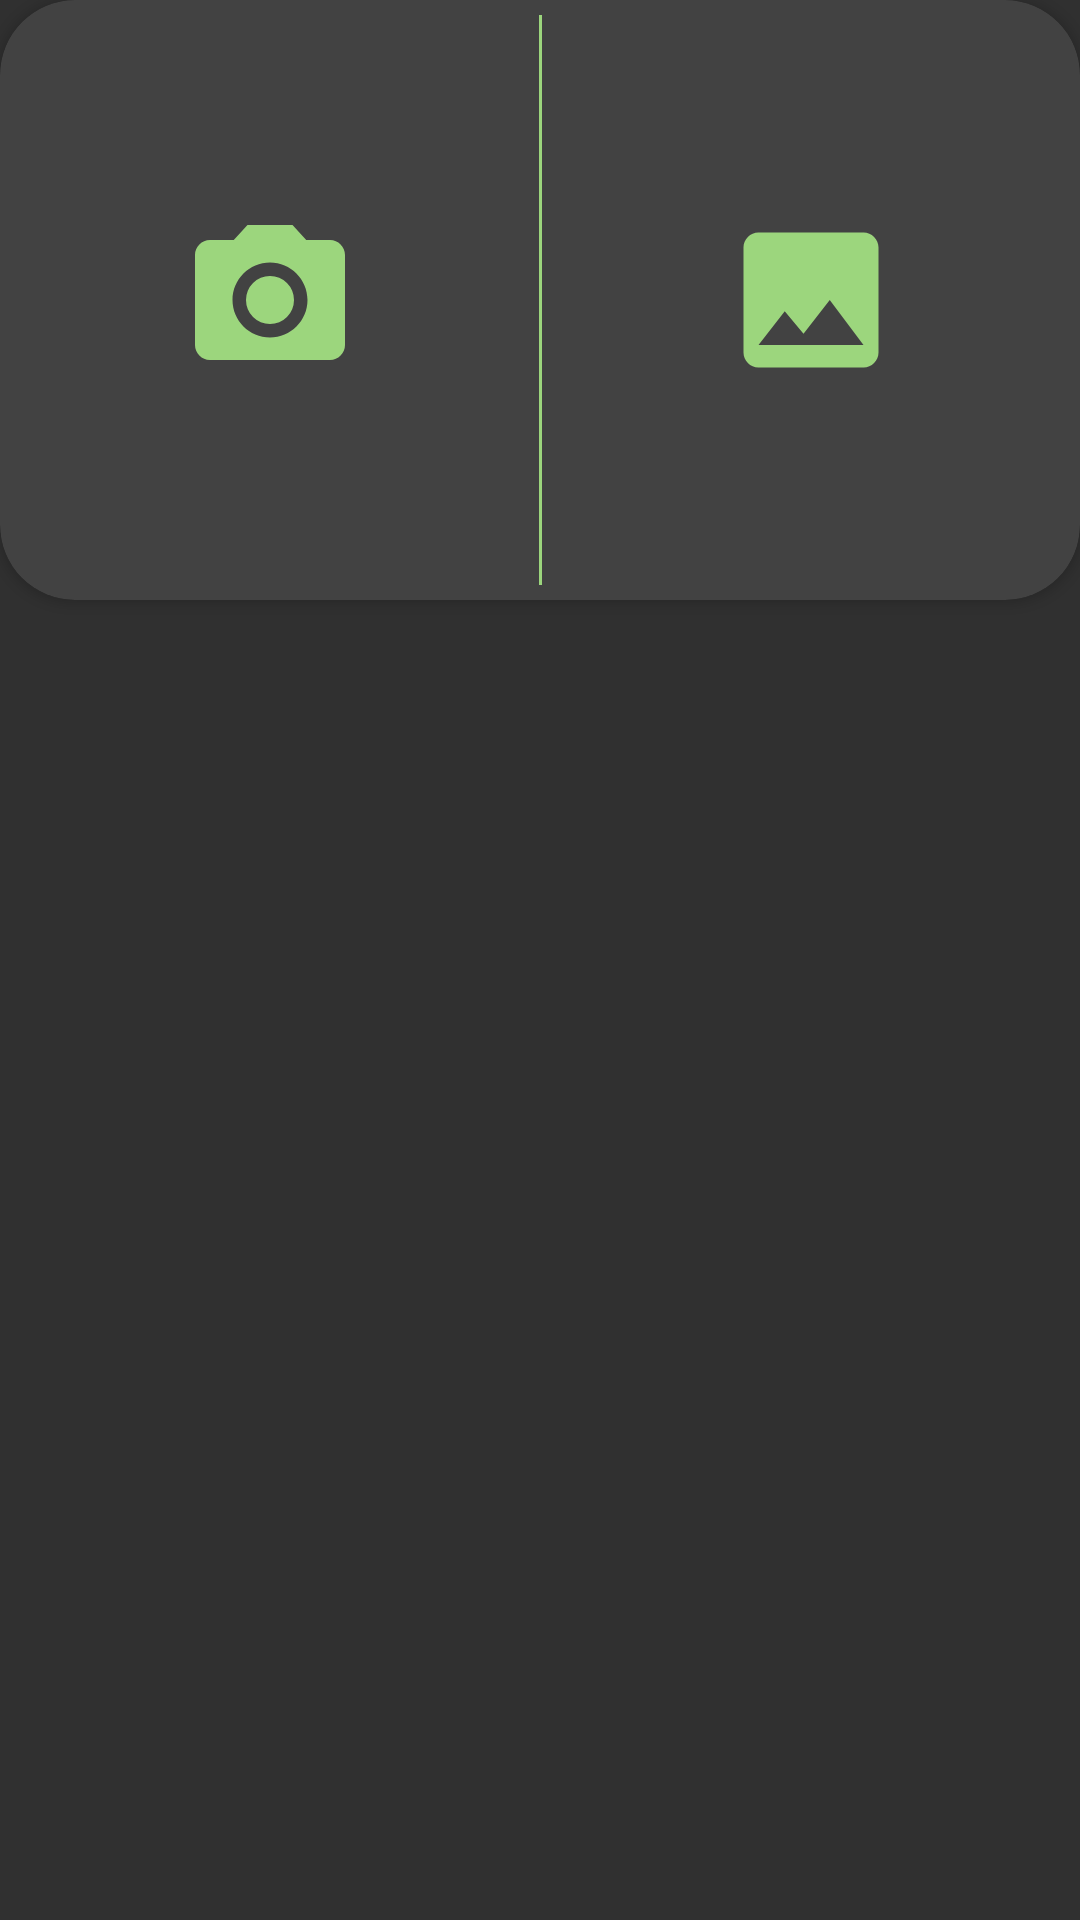

Point at icon controls on the screen. Image size 1080px x 1920px, points as (x=x, y=y).
camera: (x=270, y=292)
gallery: (x=811, y=300)
